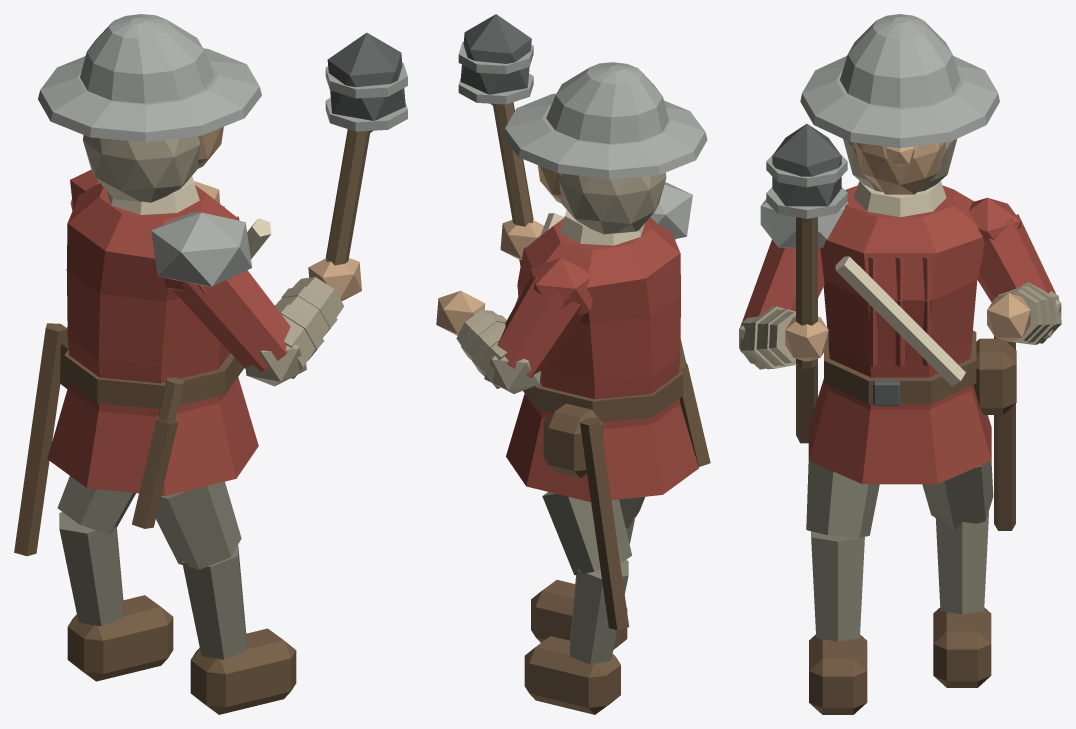
File: commander_captain.glb
The picture shows the model from 3 angles, left to right: view 1: azimuth 30°, elevation 25°; view 2: azimuth 150°, elevation 25°; view 3: azimuth 270°, elevation 25°; orthographic projection. The views are drawn at different scales.
Parts seen in each view (by area): view 1: commander_captain_team_cloth, commander_captain_steel, commander_captain_leather, commander_captain_hose, commander_captain_padded_linen, commander_captain_iron, commander_captain_oak_dark, commander_captain_skin, commander_captain_linen; view 2: commander_captain_team_cloth, commander_captain_steel, commander_captain_leather, commander_captain_padded_linen, commander_captain_hose, commander_captain_iron, commander_captain_skin, commander_captain_oak_dark, commander_captain_linen; view 3: commander_captain_team_cloth, commander_captain_steel, commander_captain_leather, commander_captain_hose, commander_captain_skin, commander_captain_padded_linen, commander_captain_linen, commander_captain_iron, commander_captain_oak_dark.
Part boxes in pixels (box(x1,y1,x2,y2)): commander_captain_team_cloth: box(47, 169, 290, 496); commander_captain_steel: box(38, 14, 407, 286); commander_captain_leather: box(14, 323, 296, 714); commander_captain_hose: box(57, 476, 246, 659); commander_captain_padded_linen: box(83, 135, 344, 386); commander_captain_iron: box(327, 32, 405, 132); commander_captain_oak_dark: box(158, 129, 370, 422); commander_captain_skin: box(194, 127, 361, 301); commander_captain_linen: box(106, 176, 271, 259); commander_captain_team_cloth: box(497, 217, 698, 502); commander_captain_steel: box(458, 41, 707, 239); commander_captain_leather: box(523, 363, 710, 714); commander_captain_padded_linen: box(456, 172, 666, 393); commander_captain_hose: box(542, 492, 644, 664); commander_captain_iron: box(460, 14, 531, 105); commander_captain_skin: box(436, 165, 561, 335); commander_captain_oak_dark: box(493, 102, 686, 369); commander_captain_linen: box(515, 210, 644, 304); commander_captain_team_cloth: box(740, 185, 1055, 484); commander_captain_steel: box(760, 14, 999, 247); commander_captain_leather: box(796, 330, 1016, 714); commander_captain_hose: box(806, 461, 993, 641); commander_captain_skin: box(785, 142, 1030, 361); commander_captain_padded_linen: box(739, 139, 1061, 369); commander_captain_linen: box(835, 181, 965, 386); commander_captain_iron: box(772, 124, 900, 405); commander_captain_oak_dark: box(796, 217, 817, 368).
Bounding box in the file's own units: 0.8666 × 1.83 × 0.8314.
